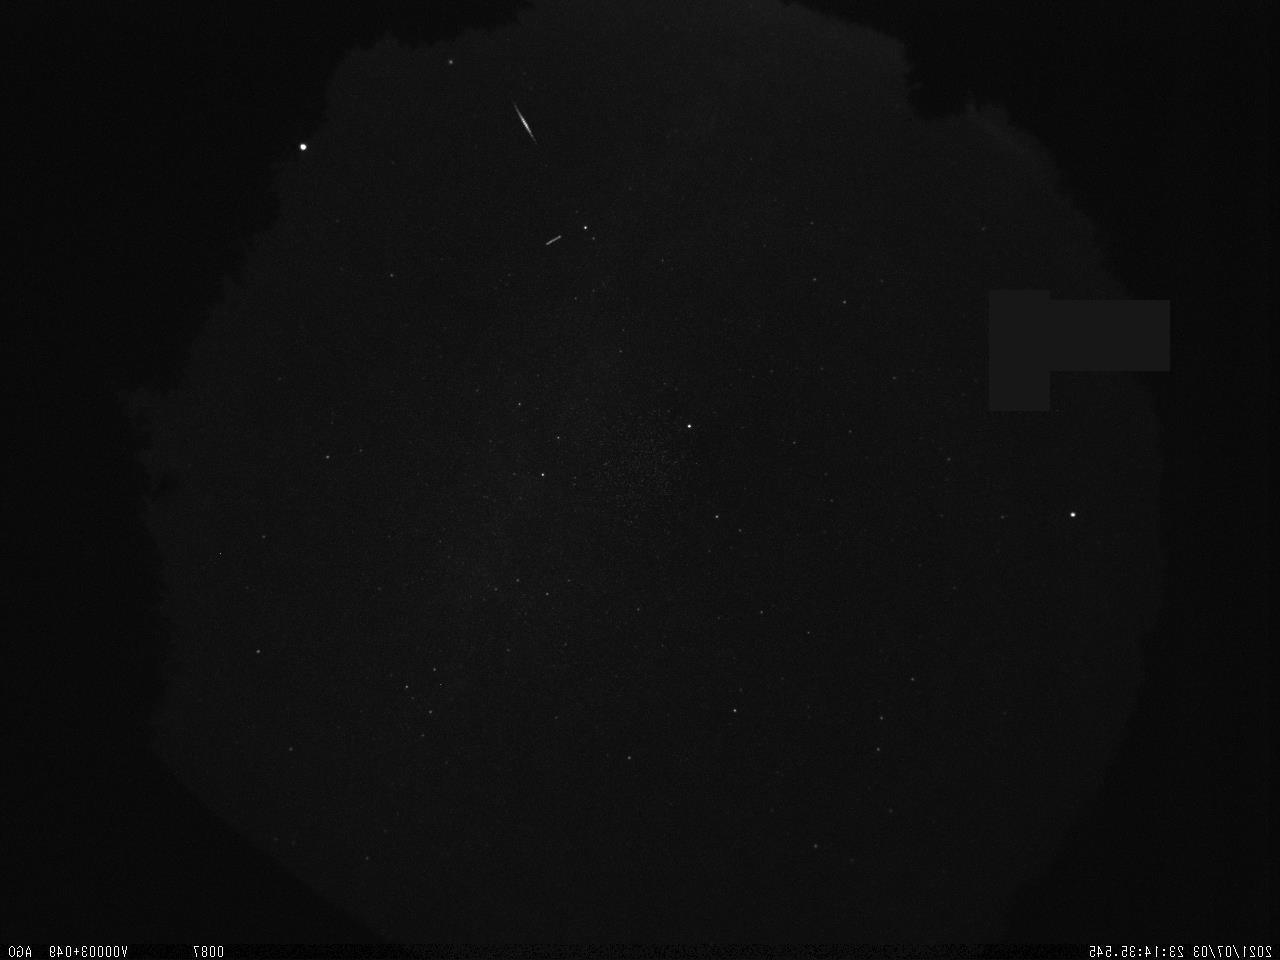meteor: (503, 87, 547, 152)
satelite: (542, 229, 567, 251)
